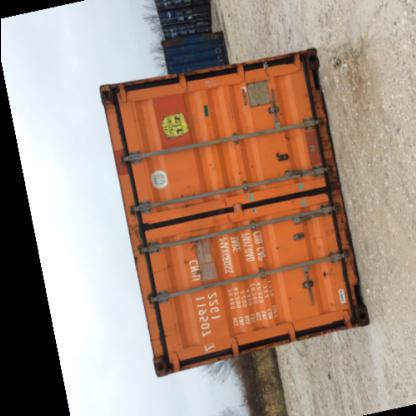Damage: (176, 219, 210, 272), (170, 186, 212, 214), (304, 111, 321, 175), (96, 81, 124, 116), (190, 88, 214, 124), (266, 146, 296, 168), (149, 351, 171, 377), (259, 238, 287, 257)
